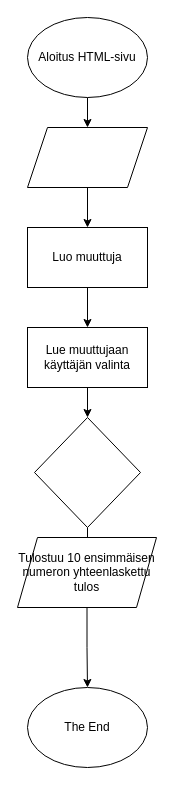
The diagram is 174 pixels wide and 785 high, and some of its shapes have lost their labels. The centre of each missing label's shape, as x and y in pixels:
"Paina Laske 10 ens. yhteen" goes at (x=87, y=472).
"Pyydä käyttäjää painamaan buttonia" goes at (x=87, y=157).
